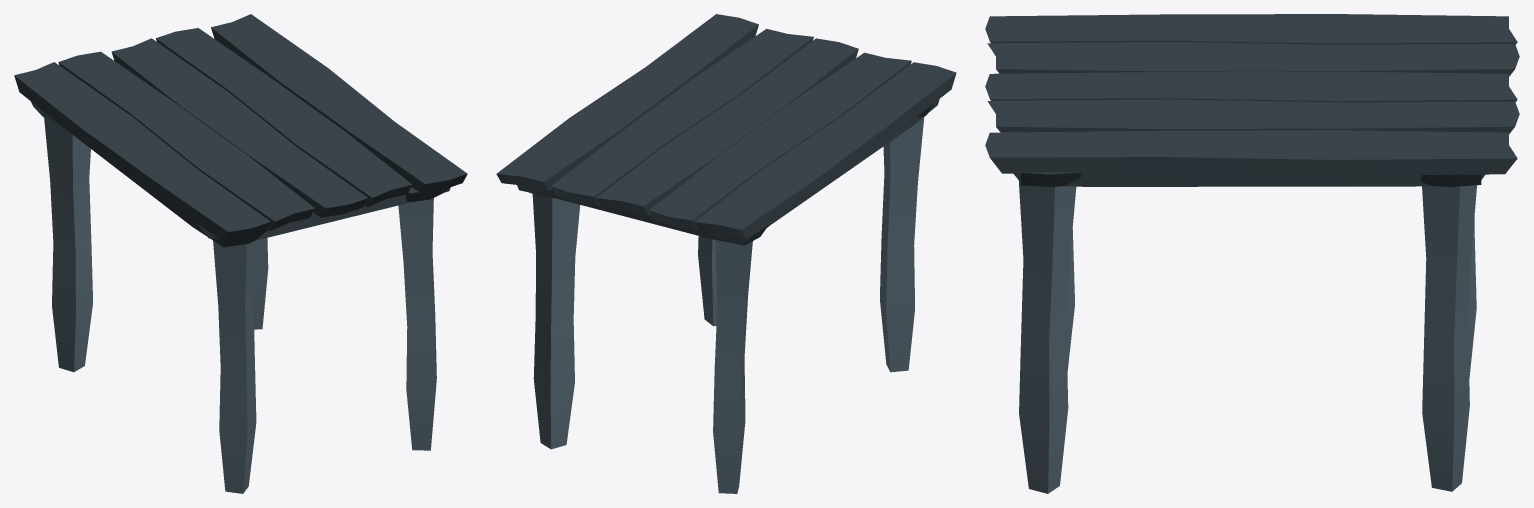
The model's file is Mesa2S.fbx.
3 renders of one model, left to right at view 1: azimuth 30°, elevation 25°; view 2: azimuth 150°, elevation 25°; view 3: azimuth 270°, elevation 25°, orthographic. The views are drawn at different scales.
Visible parts, largest first — view 1: Mesa2S; view 2: Mesa2S; view 3: Mesa2S.
Boxes of the visible parts, x1,y1,x2,y2 form: Mesa2S: (14, 14, 467, 493); Mesa2S: (496, 14, 956, 493); Mesa2S: (985, 14, 1519, 493).
Size of the model in its own units: 91.42 by 100 by 141.
